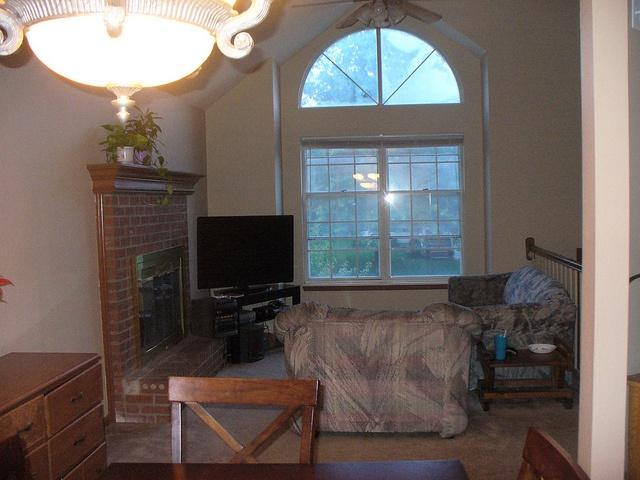AIO PC-Monitor-TV: (195, 214, 294, 294)
